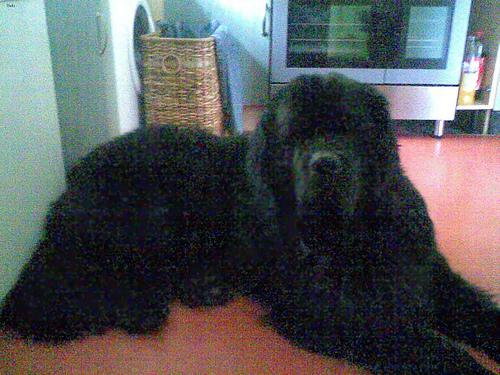dog-newfoundland: (245, 71, 396, 213)
